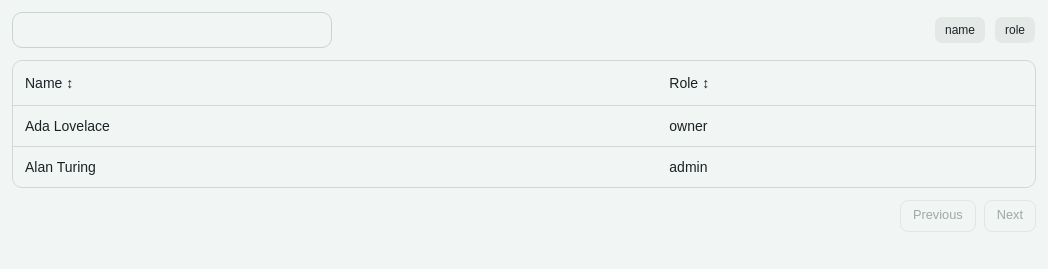
Scenario: DataTable › writes the sort back to the URL
What coordinates should you click on to do the following:
click the button with aria-label "Sort by name"
I would click on:
 (49, 83)
Its box is [25, 73, 73, 93].
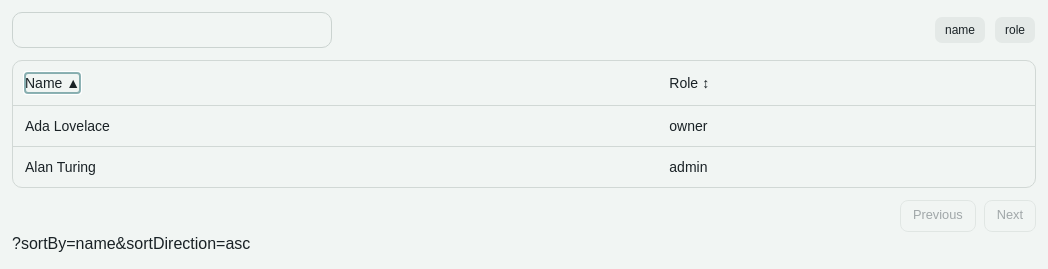
Expected: the text with test id "search" shows "sortBy=name", [12, 234, 250, 252]
Expected: the text with test id "search" shows "sortDirection=asc", [12, 234, 250, 252]
